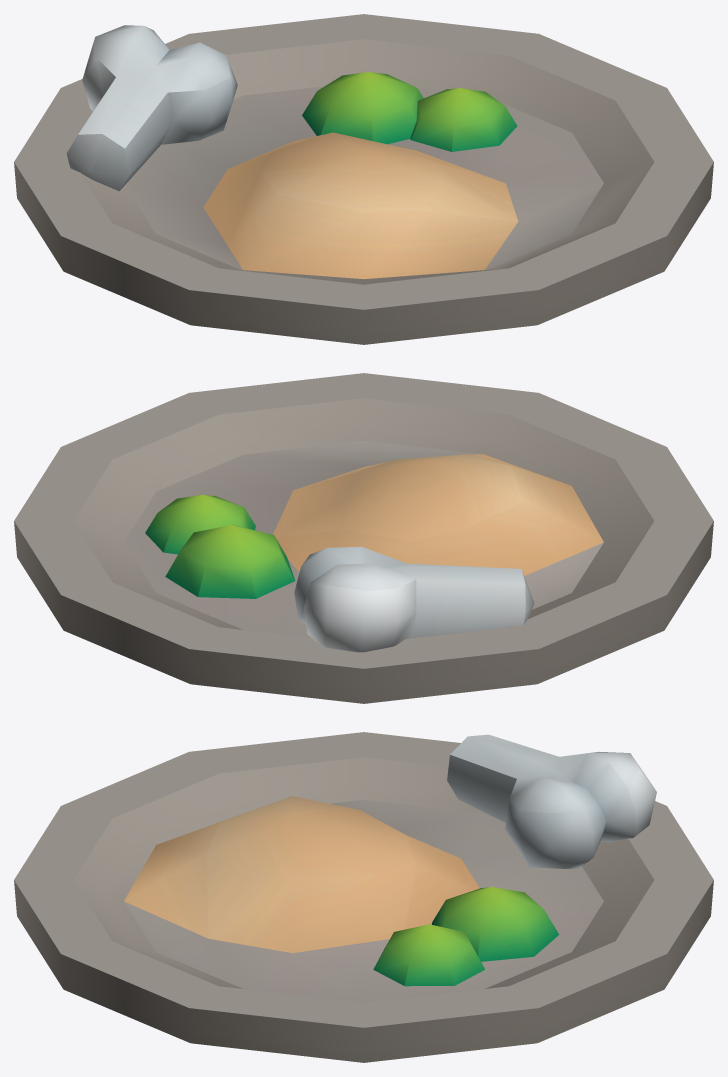
File: kaykit-dungeon-remastered-plate-food-b-gltf.glb
3 views of the same model, one above another, from view 1: azimuth 30°, elevation 25°; view 2: azimuth 150°, elevation 25°; view 3: azimuth 270°, elevation 25° (orthographic).
Parts seen in each view (by area): view 1: plate_food_B; view 2: plate_food_B; view 3: plate_food_B.
Part boxes in pixels (left/top/right/bottom): plate_food_B: left=14, top=14, right=713, bottom=344; plate_food_B: left=14, top=373, right=713, bottom=703; plate_food_B: left=14, top=732, right=713, bottom=1062.
Bounding box in the file's own units: 0.9706 × 0.2361 × 0.9706.
Materials: 1 (1 with a texture image).
